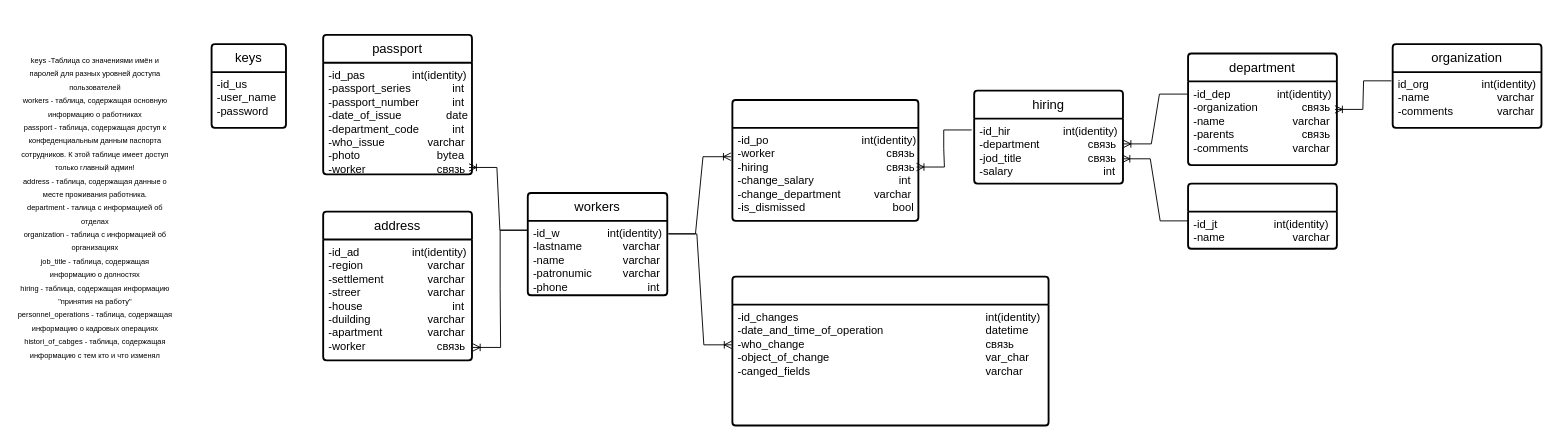
Image size: 1558x442. Some labels were removed from this diagram. The box of each missing label's shape, as (x1, y1, x2, y2) in pixels:
histori_of_changes: (731, 275, 1049, 426)
job_title: (1187, 182, 1337, 249)
personnel_operations: (731, 99, 919, 221)
